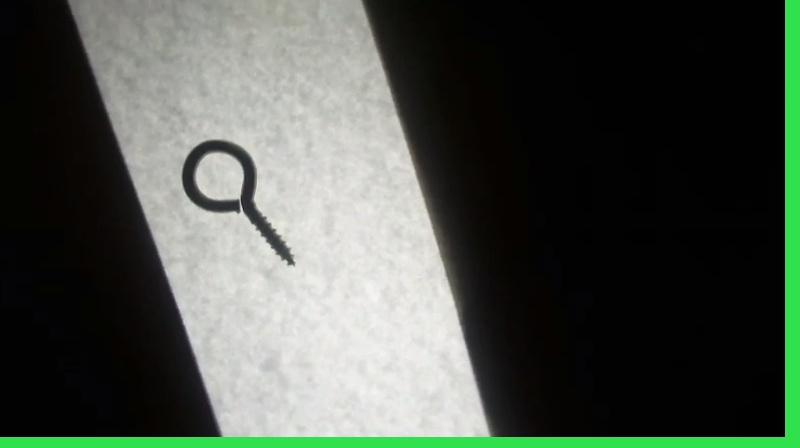O001: (177, 134, 298, 268)
